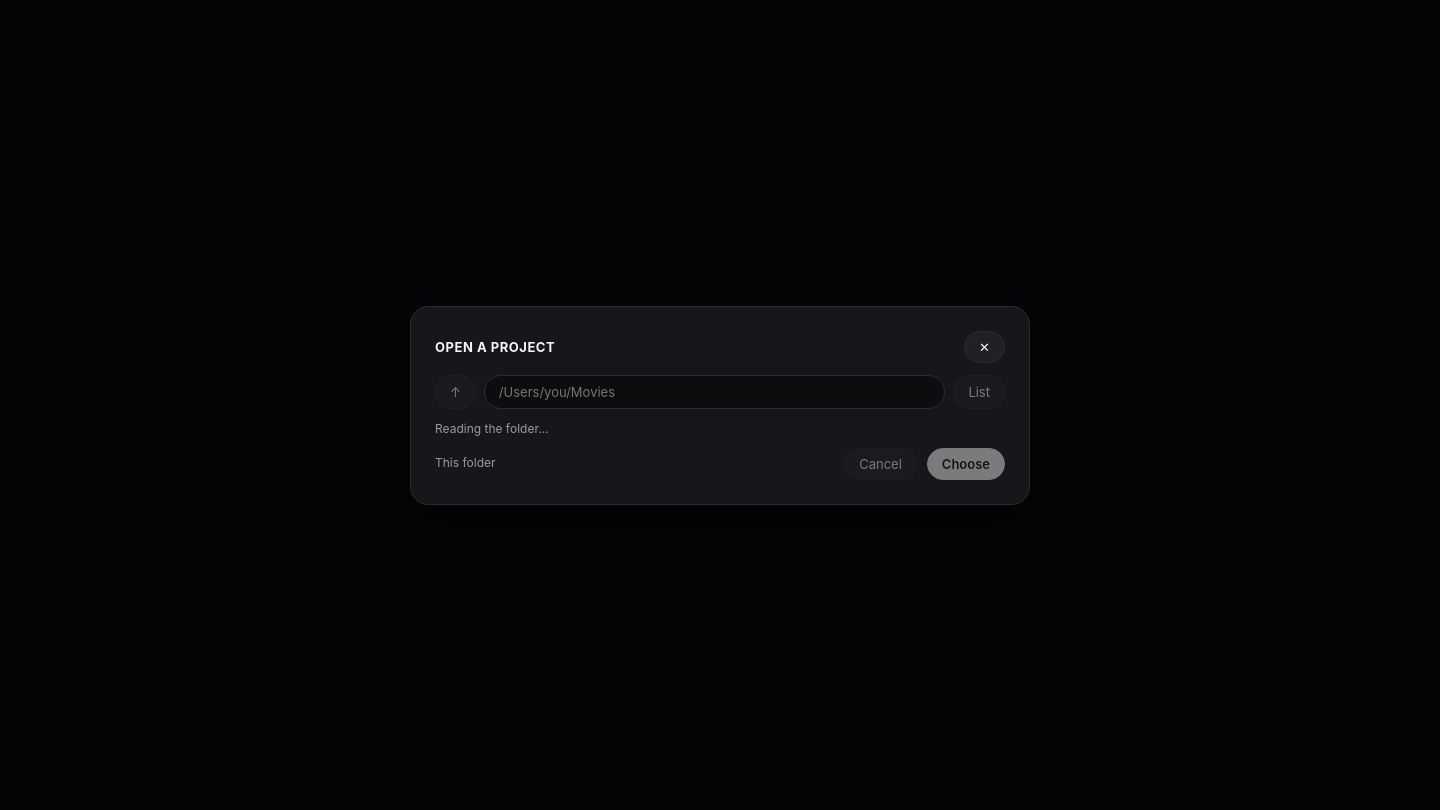
Test: the file dialog a browser has to draw itself › keeps what was typed when a listing arrives after it was typed
The image size is (1440, 810).
Type "/home/you/Movies" into the field with test id "path-browser-typed" at (715, 392), box [484, 374, 945, 408]
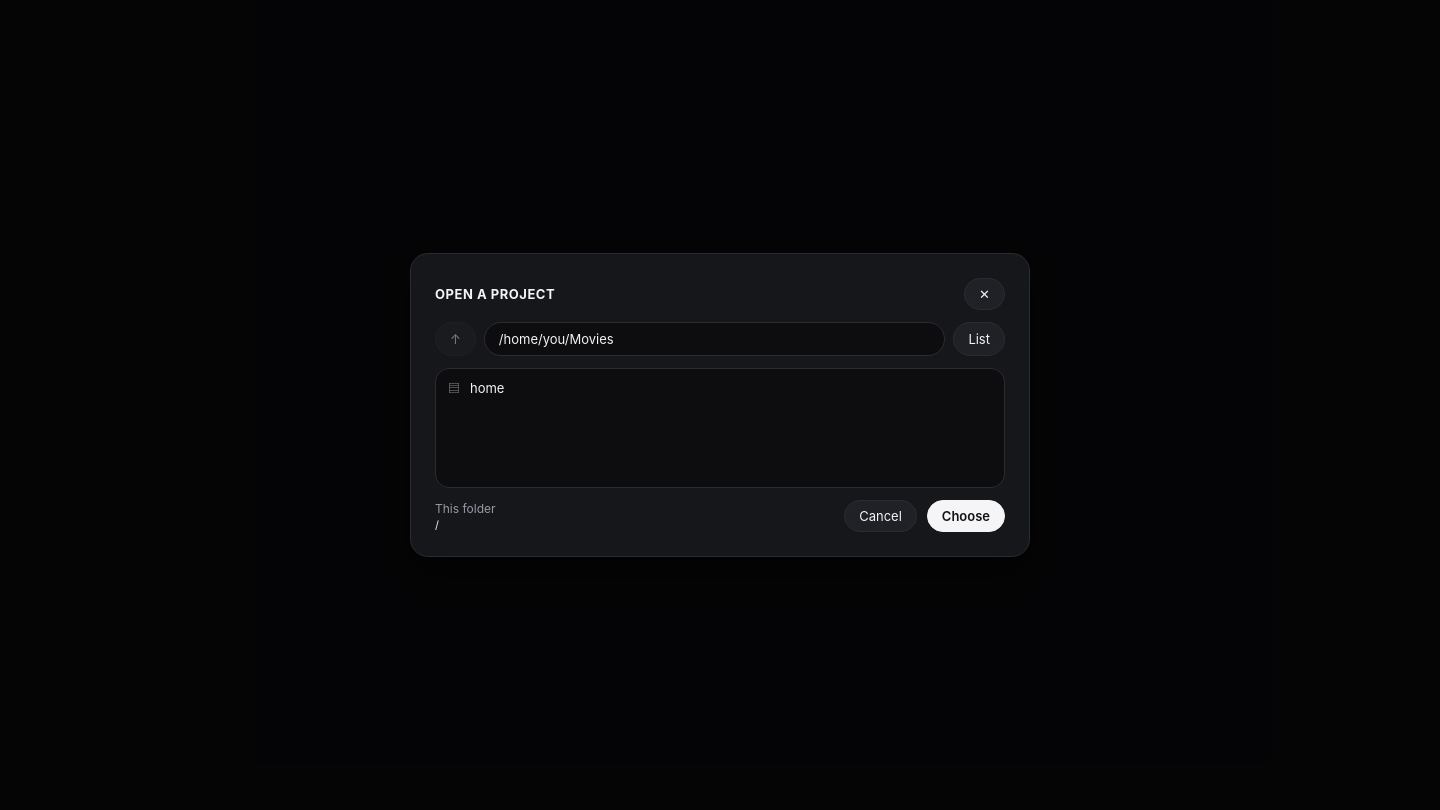
Expected: the text with test id "path-browser-busy" is gone
Expected: the button with test id "path-browser-row-home" is shown, [442, 375, 998, 400]
